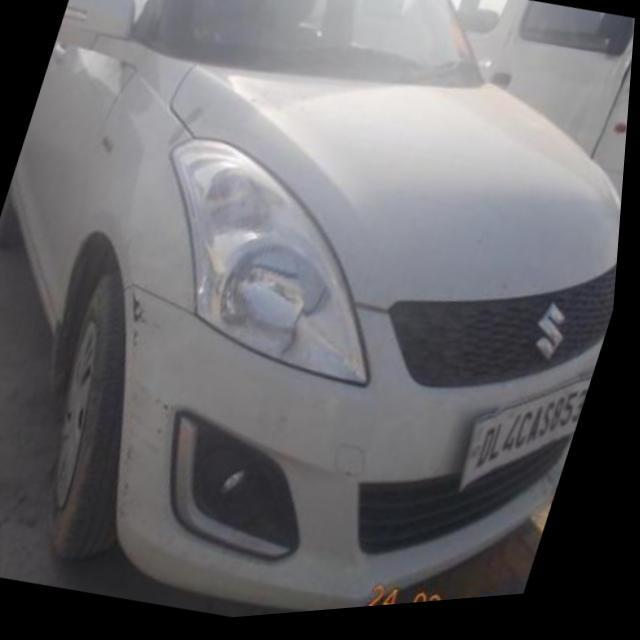crack: (126, 294, 163, 340)
rub: (126, 377, 181, 533)
